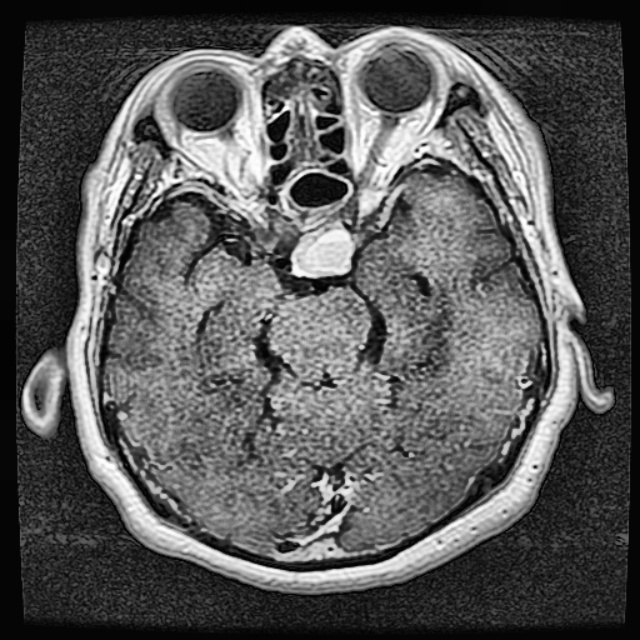Pituitary: (294, 232, 352, 277)
